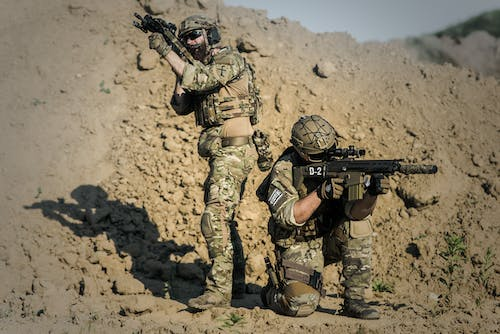gun: (291, 144, 439, 201), (131, 11, 197, 66)
